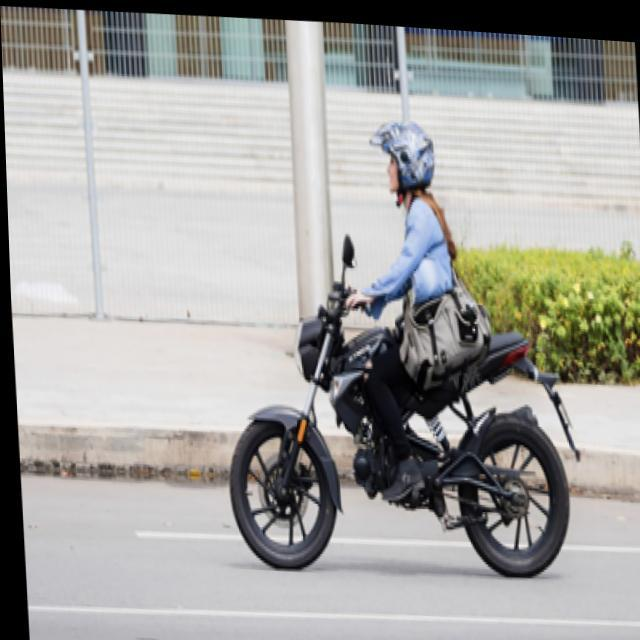Helmet: (369, 109, 444, 210)
